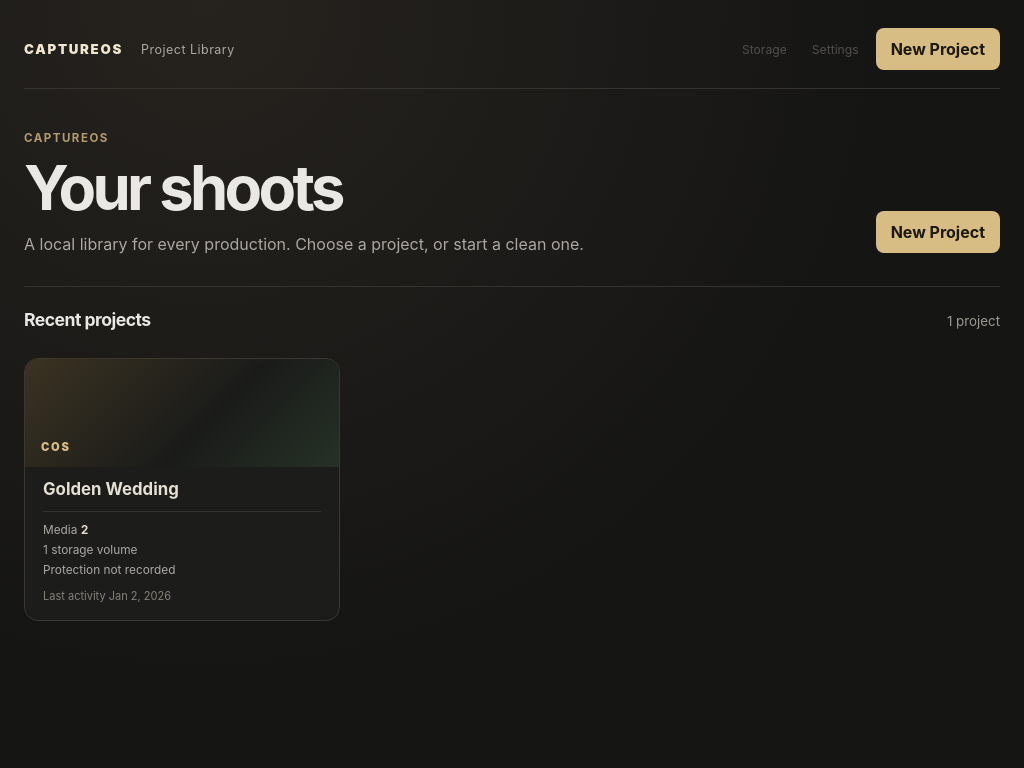
Test: CaptureOS application shell and local media engine › explains why a cross-run Moment boundary must be rebuilt before merging
Click the button with aria-label "Open Golden Wedding" at (182, 413), box [24,358,340,621]
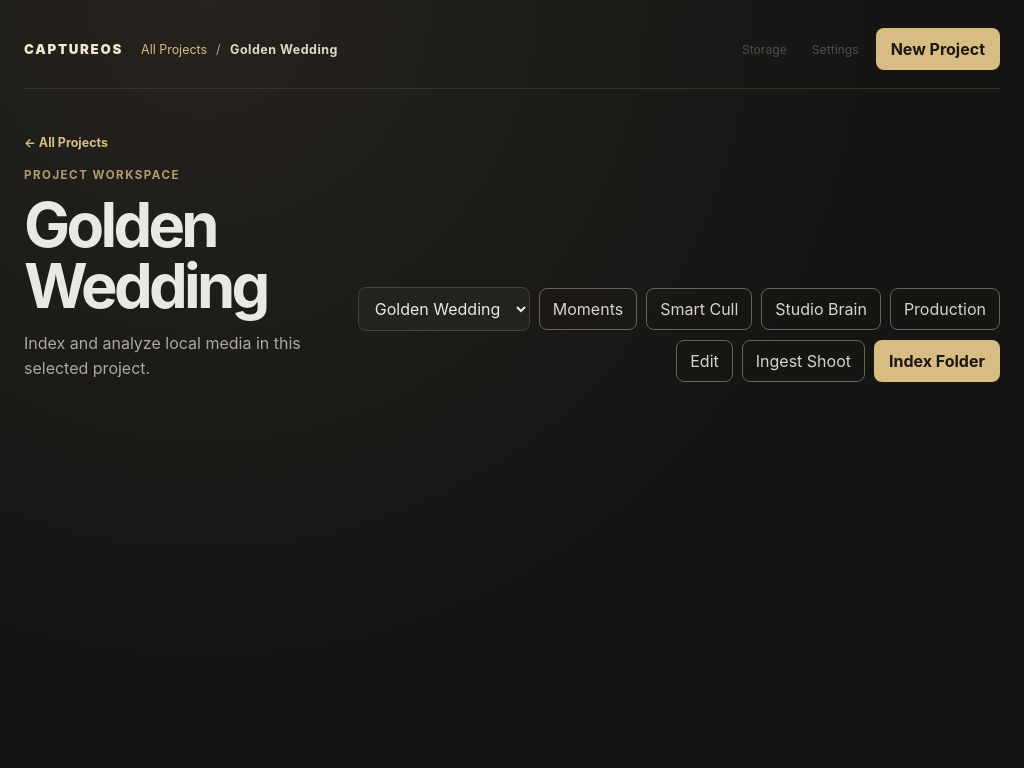
Click the button "Moments" at (588, 309), box [539,288,637,330]
(page scrolled)
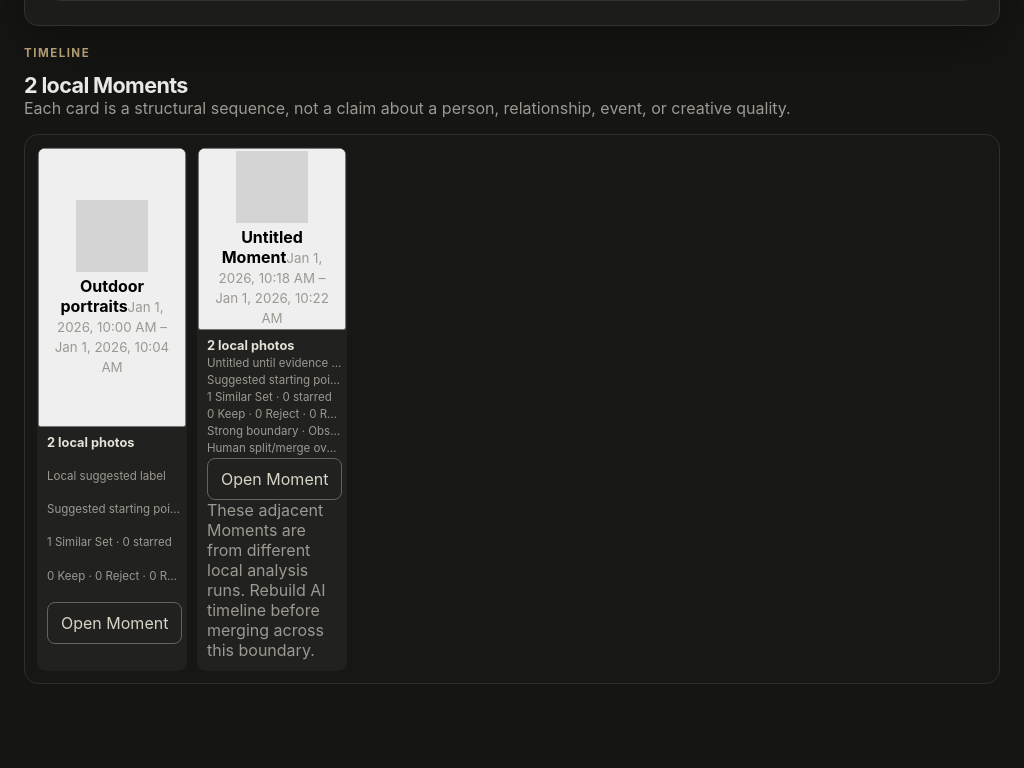
Check: the text "These adjacent Moments are from different local analysis runs. Rebuild AI timeline before merging across this boundary." is shown, box [207,500,326,660]
